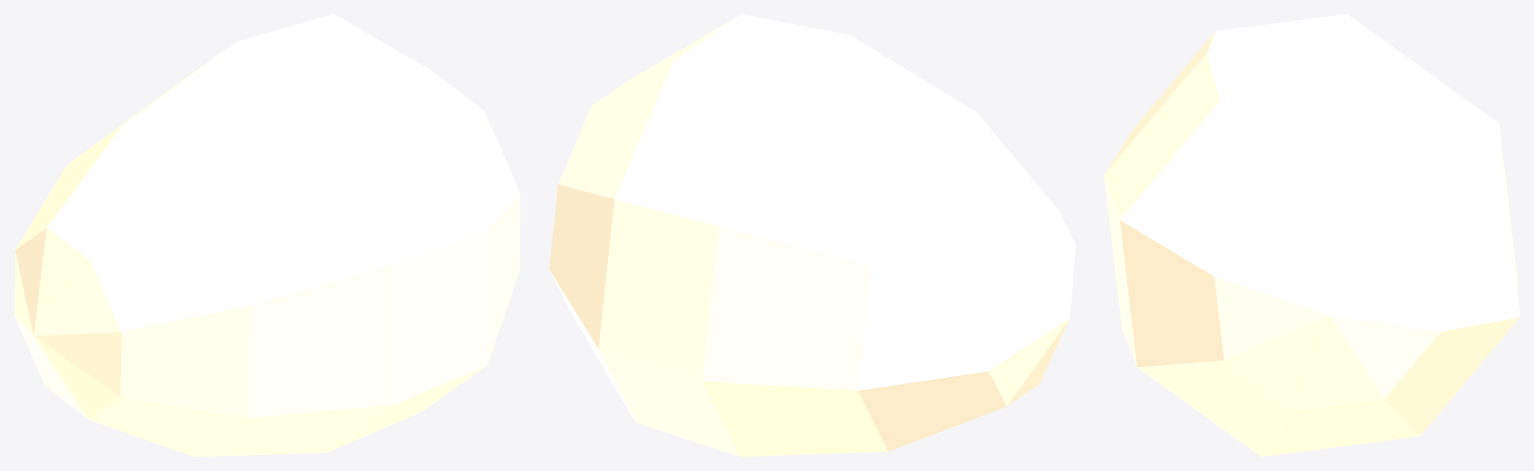
3 views of the same model, side by side, from view 1: azimuth 30°, elevation 25°; view 2: azimuth 150°, elevation 25°; view 3: azimuth 270°, elevation 25° (orthographic).
Parts seen in each view (by area): view 1: node_egg-chicken_(5)_-256036_1; view 2: node_egg-chicken_(5)_-256036_1; view 3: node_egg-chicken_(5)_-256036_1.
Boxes of the visible parts, x1,y1,x2,y2 form: node_egg-chicken_(5)_-256036_1: [14, 14, 520, 456]; node_egg-chicken_(5)_-256036_1: [549, 14, 1075, 456]; node_egg-chicken_(5)_-256036_1: [1104, 14, 1519, 456].
Size of the model in its own units: 0.5148 by 0.3903 by 0.3925.
